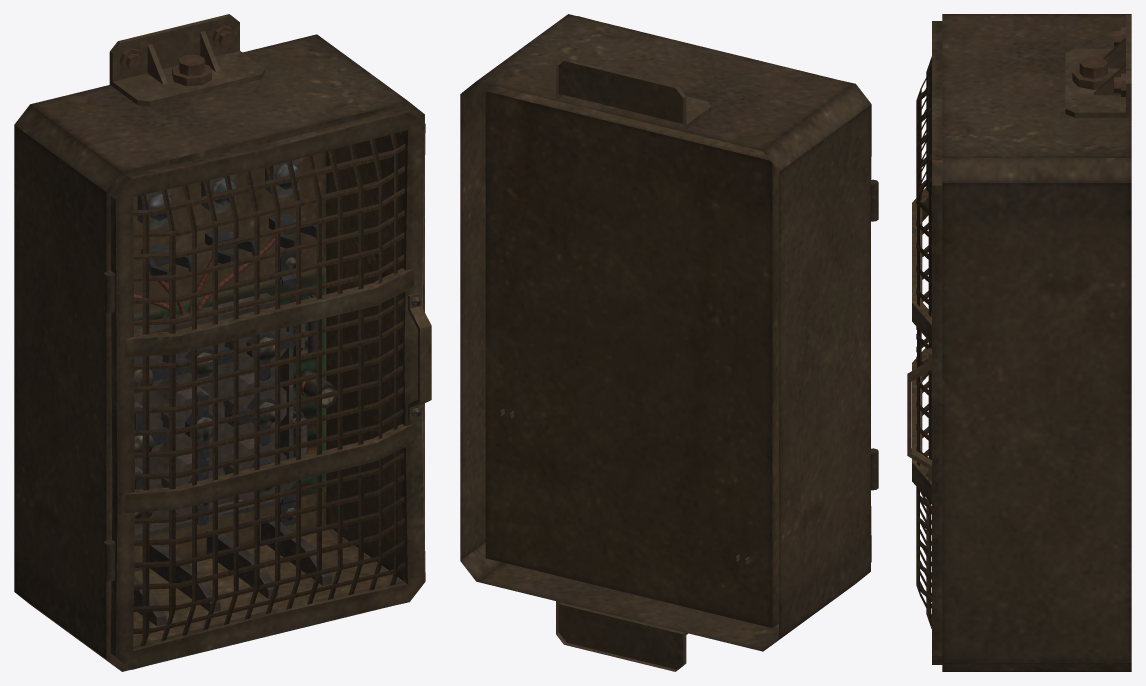
Rendered from fuse_box_etx_1.obj.
3 views of the same model, side by side, from view 1: azimuth 30°, elevation 25°; view 2: azimuth 150°, elevation 25°; view 3: azimuth 270°, elevation 25° (orthographic). The views are drawn at different scales.
Visible parts, largest first — view 1: fuse_box_etx_1, fuse_box_etx_1_door, fuse_box_etx_1_puzzle_piece_child_5, fuse_box_etx_1_puzzle_piece_child_4, fuse_box_etx_1_puzzle_piece_child_2, fuse_box_etx_1_puzzle_piece_child_1, fuse_box_etx_1_puzzle_piece_child_7, fuse_box_etx_1_puzzle_piece_child_8, fuse_box_etx_1_puzzle_piece_child_3, fuse_box_etx_1_puzzle_piece_child; view 2: fuse_box_etx_1, fuse_box_etx_1_door; view 3: fuse_box_etx_1, fuse_box_etx_1_door.
Part boxes in pixels (left/top/right/bottom): fuse_box_etx_1: left=14, top=14, right=424, bottom=671; fuse_box_etx_1_door: left=103, top=107, right=431, bottom=669; fuse_box_etx_1_puzzle_piece_child_5: left=223, top=374, right=286, bottom=446; fuse_box_etx_1_puzzle_piece_child_4: left=161, top=387, right=224, bottom=461; fuse_box_etx_1_puzzle_piece_child_2: left=224, top=309, right=295, bottom=381; fuse_box_etx_1_puzzle_piece_child_1: left=161, top=324, right=233, bottom=389; fuse_box_etx_1_puzzle_piece_child_7: left=161, top=454, right=224, bottom=526; fuse_box_etx_1_puzzle_piece_child_8: left=223, top=438, right=286, bottom=500; fuse_box_etx_1_puzzle_piece_child_3: left=134, top=402, right=168, bottom=467; fuse_box_etx_1_puzzle_piece_child: left=134, top=355, right=168, bottom=402; fuse_box_etx_1: left=460, top=14, right=870, bottom=671; fuse_box_etx_1_door: left=578, top=16, right=878, bottom=562; fuse_box_etx_1: left=942, top=14, right=1131, bottom=671; fuse_box_etx_1_door: left=907, top=21, right=942, bottom=664.
Bounding box in the file's own units: 0.5465 × 0.945 × 0.32.
